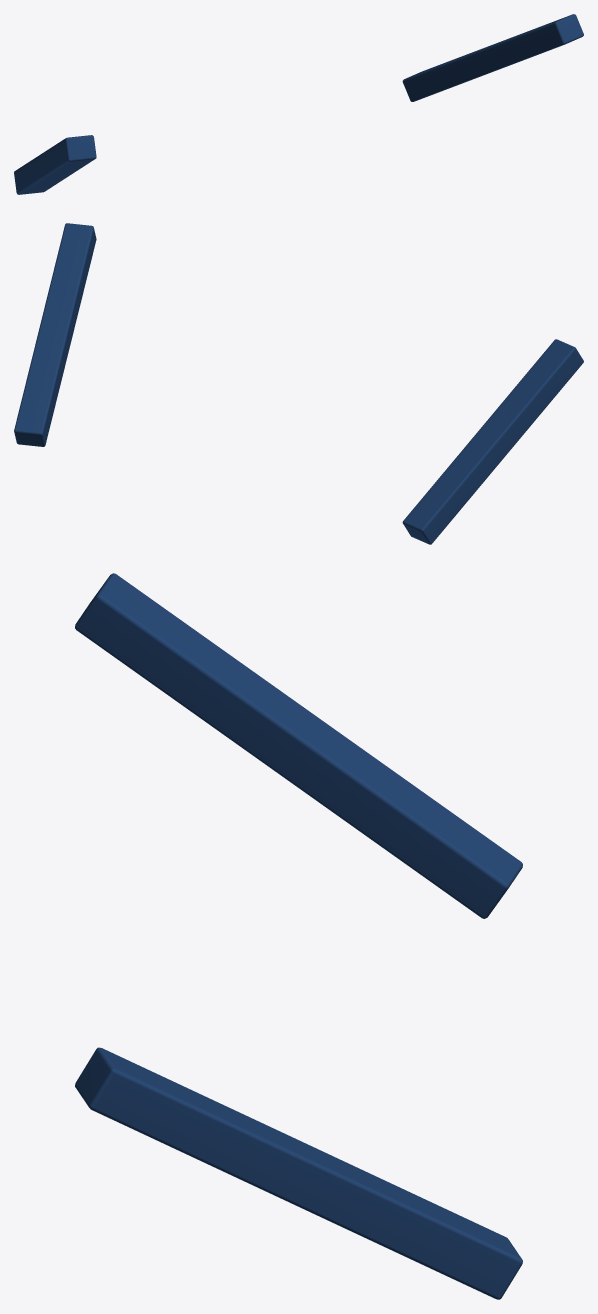
File: GEO_C_Pillar.glb
3 renders of one model, top to bottom at view 1: azimuth 30°, elevation 25°; view 2: azimuth 150°, elevation 25°; view 3: azimuth 270°, elevation 25°, orthographic. The views are drawn at different scales.
Parts seen in each view (by area): view 1: GEO_C_Pillar; view 2: GEO_C_Pillar; view 3: GEO_C_Pillar.
Part boxes in pixels (bbox=[...]): GEO_C_Pillar: bbox=[14, 14, 583, 194]; GEO_C_Pillar: bbox=[14, 223, 583, 544]; GEO_C_Pillar: bbox=[75, 573, 522, 1299].
Size of the model in its own units: 1.7 by 0.4361 by 0.6381.
